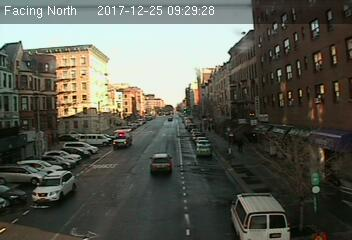car: (29, 168, 77, 204), (148, 152, 173, 174), (195, 144, 212, 155)
truck: (228, 192, 291, 240), (112, 128, 133, 147)
